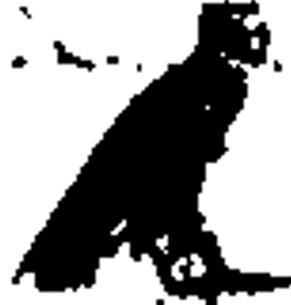Owl: (12, 7, 277, 303)
